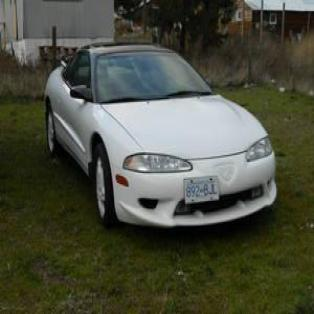Auto: (45, 45, 279, 232)
